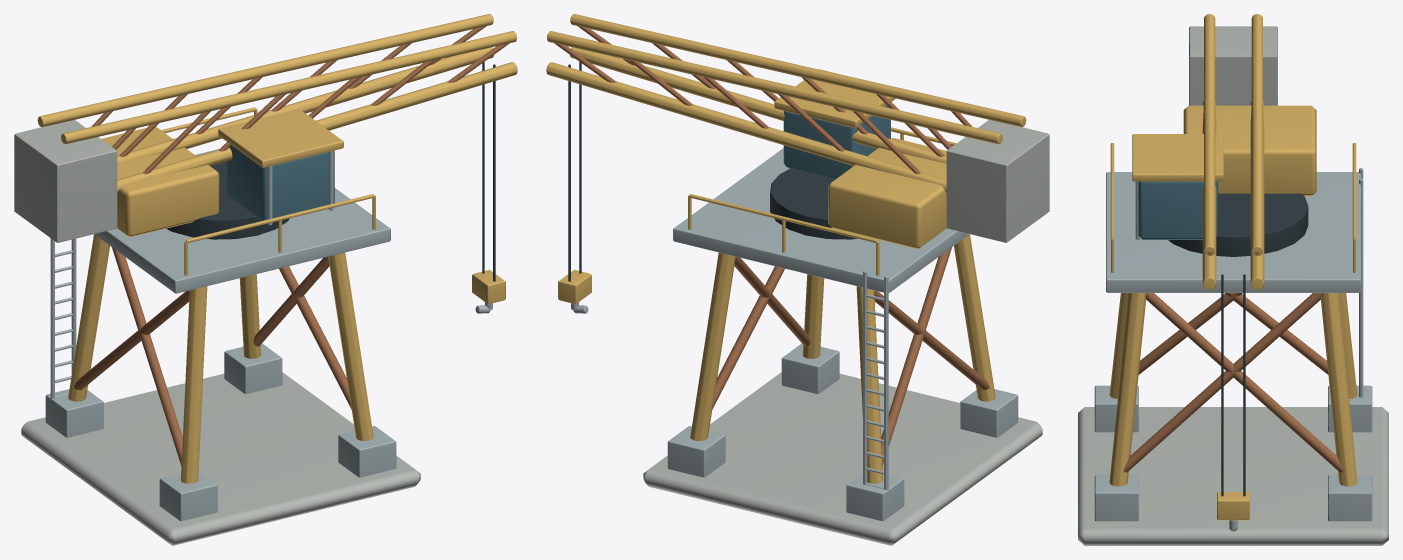
File: HarborCrane.glb
The picture shows the model from 3 angles, left to right: view 1: azimuth 30°, elevation 25°; view 2: azimuth 150°, elevation 25°; view 3: azimuth 270°, elevation 25°; orthographic projection. The views are drawn at different scales.
Parts seen in each view (by area): view 1: Crane foundation, Operator platform, Counterweight, Crane machinery, Lattice boom upper.001, Lattice boom upper, Cab glazing, Cab roof, Lattice boom lower, Lattice boom lower.001, Gantry upright, Gantry upright.002 (+16 smaller); view 2: Crane foundation, Operator platform, Counterweight, Crane machinery, Lattice boom upper, Lattice boom upper.001, Lattice boom lower.001, Lattice boom lower, Gantry upright.003, Turntable, Cab glazing, Gantry upright (+16 smaller); view 3: Crane foundation, Operator platform, Crane machinery, Counterweight, Turntable, Cab glazing, Cab roof, Gantry upright.002, Gantry upright.003, Lattice boom upper, Lattice boom upper.001, Side cross brace.003 (+17 smaller).
Boxes of the visible parts, x1=… form: Crane foundation: x1=21, y1=372, x2=420, y2=545; Operator platform: x1=94, y1=149, x2=390, y2=293; Counterweight: x1=14, y1=120, x2=117, y2=242; Crane machinery: x1=101, y1=127, x2=219, y2=237; Lattice boom upper.001: x1=37, y1=14, x2=493, y2=127; Lattice boom upper: x1=61, y1=31, x2=516, y2=144; Cab glazing: x1=227, y1=144, x2=334, y2=220; Cab roof: x1=218, y1=109, x2=343, y2=167; Lattice boom lower: x1=117, y1=62, x2=517, y2=193; Lattice boom lower.001: x1=117, y1=47, x2=493, y2=163; Gantry upright: x1=180, y1=286, x2=207, y2=483; Gantry upright.002: x1=328, y1=252, x2=373, y2=440; Crane foundation: x1=643, y1=372, x2=1042, y2=545; Operator platform: x1=673, y1=148, x2=969, y2=292; Counterweight: x1=946, y1=120, x2=1049, y2=242; Crane machinery: x1=828, y1=138, x2=946, y2=249; Lattice boom upper: x1=570, y1=14, x2=1026, y2=127; Lattice boom upper.001: x1=547, y1=31, x2=1002, y2=144; Lattice boom lower.001: x1=546, y1=62, x2=946, y2=193; Lattice boom lower: x1=570, y1=47, x2=946, y2=163; Gantry upright.003: x1=690, y1=252, x2=735, y2=440; Turntable: x1=770, y1=168, x2=856, y2=239; Cab glazing: x1=783, y1=105, x2=890, y2=178; Gantry upright: x1=954, y1=234, x2=995, y2=401; Crane foundation: x1=1078, y1=407, x2=1388, y2=545; Operator platform: x1=1106, y1=172, x2=1360, y2=292; Crane machinery: x1=1183, y1=105, x2=1316, y2=196; Counterweight: x1=1189, y1=26, x2=1277, y2=105; Turntable: x1=1168, y1=193, x2=1308, y2=256; Cab glazing: x1=1138, y1=181, x2=1218, y2=239; Cab roof: x1=1132, y1=134, x2=1223, y2=181; Gantry upright.002: x1=1109, y1=293, x2=1145, y2=486; Gantry upright.003: x1=1321, y1=293, x2=1357, y2=486; Lattice boom upper: x1=1204, y1=14, x2=1215, y2=255; Lattice boom upper.001: x1=1251, y1=14, x2=1262, y2=255; Side cross brace.003: x1=1145, y1=293, x2=1343, y2=472.
Bounding box in the file's own units: 9.96 × 7.7 × 5.6.
